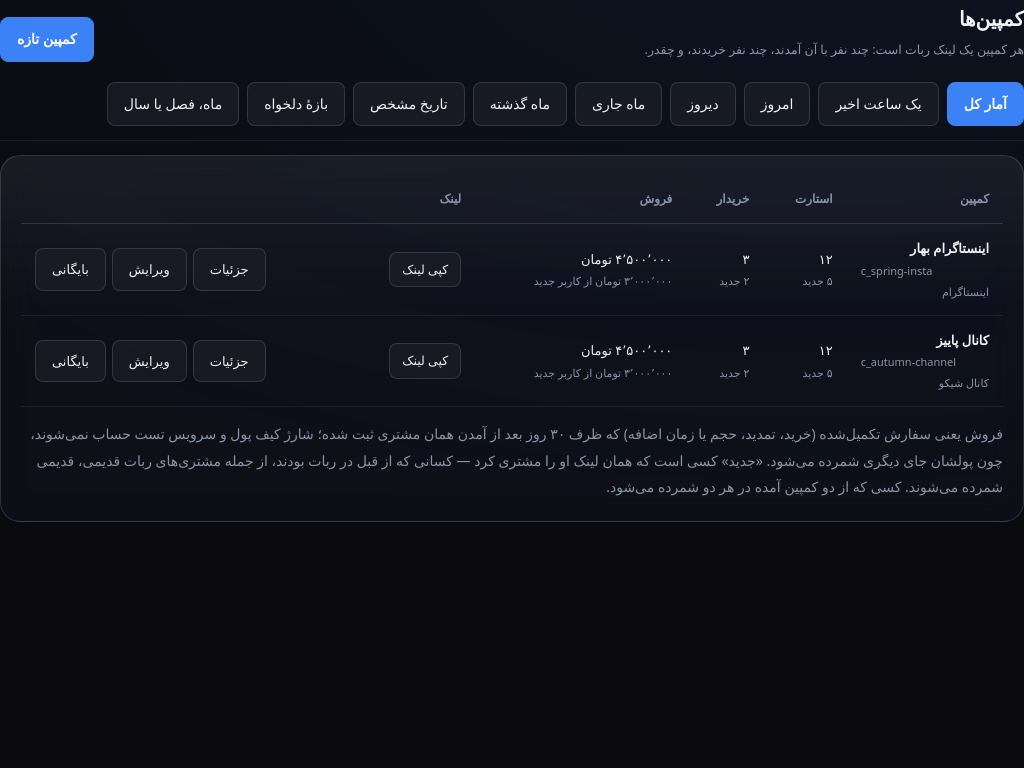
Scenario: «کمپین‌ها» › edits the row it was opened on, not the one opened before it
Check: the text "اینستاگرام بهار" is shown, box [910, 239, 989, 257]
Click the button "ویرایش" in the row of "اینستاگرام بهار".
click(149, 269)  # box [112, 248, 187, 291]
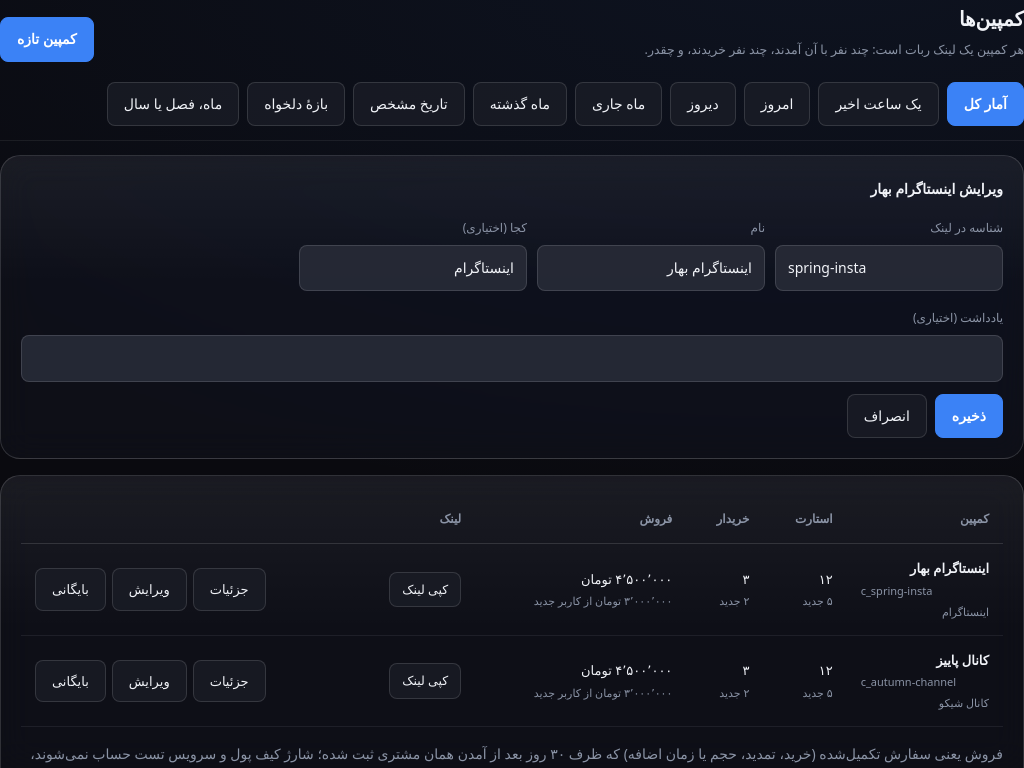
Check: the field labelled "نام" holds "اینستاگرام بهار", box [537, 245, 765, 291]
Click the button "ویرایش" in the row of "کانال پاییز".
click(149, 681)  # box [112, 660, 187, 702]
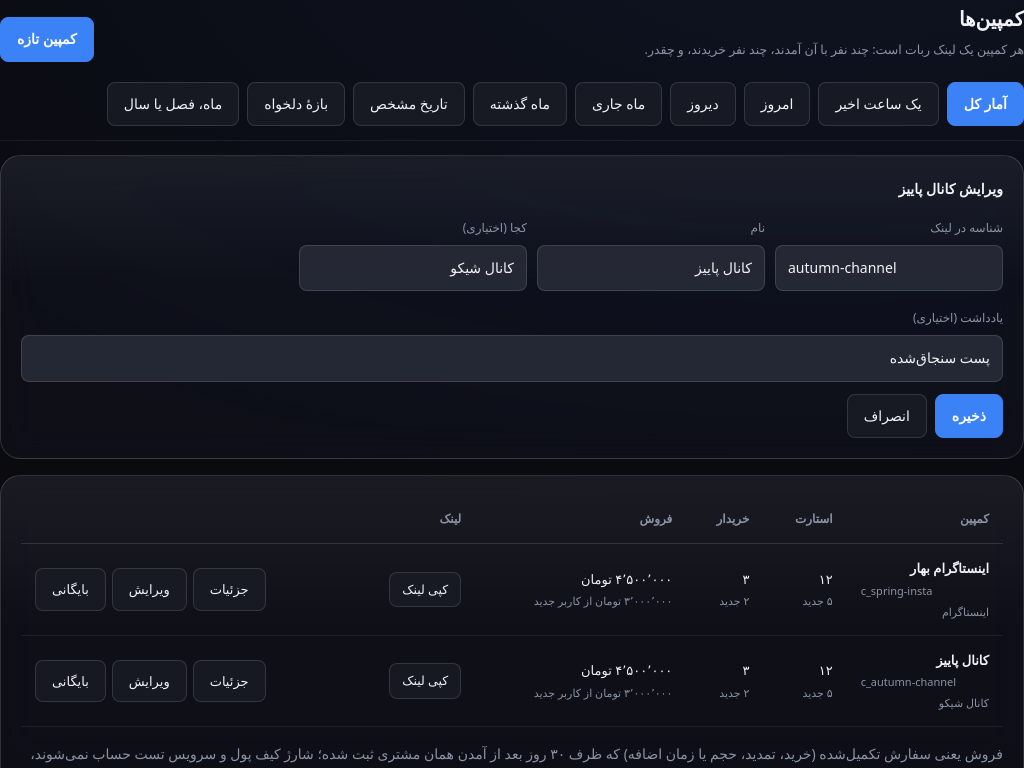
Check: the field labelled "نام" holds "کانال پاییز", box [537, 245, 765, 291]
Check: the field labelled "شناسه در لینک" holds "autumn-channel", box [775, 245, 1003, 291]
